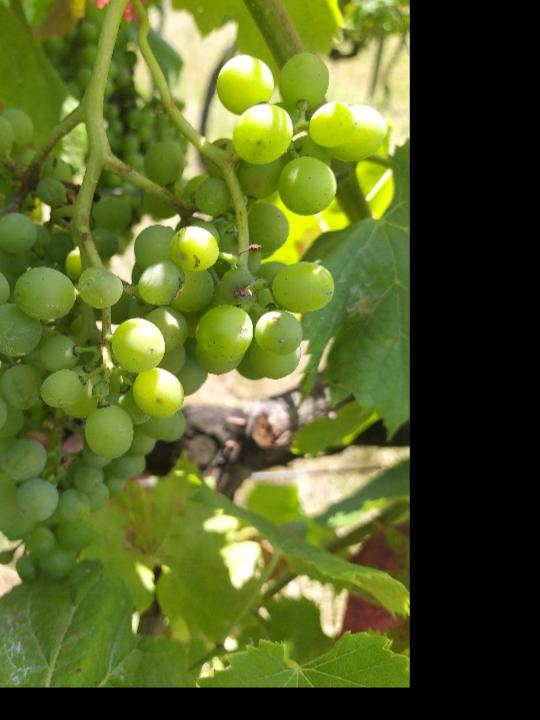grape: (0, 45, 390, 588)
